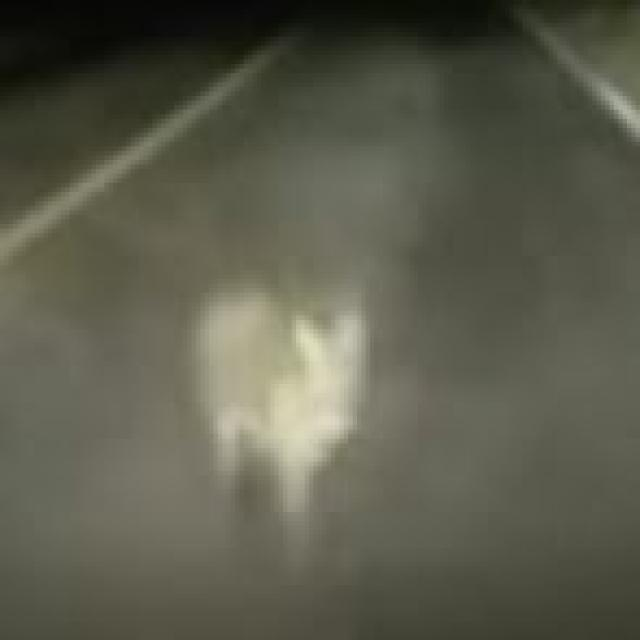elk: (135, 244, 408, 574)
